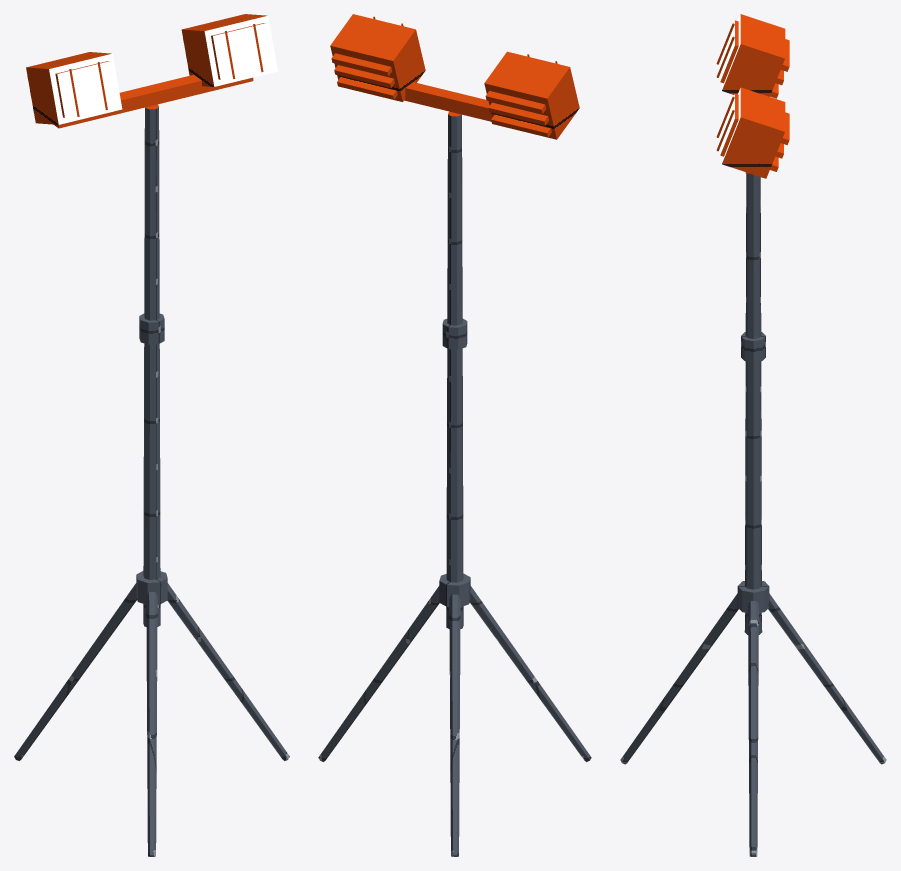
The model's file is floodlight.glb.
3 renders of one model, left to right at view 1: azimuth 30°, elevation 25°; view 2: azimuth 150°, elevation 25°; view 3: azimuth 270°, elevation 25°, orthographic. The views are drawn at different scales.
Parts seen in each view (by area): view 1: floodlight; view 2: floodlight; view 3: floodlight.
Part boxes in pixels (<box>): floodlight: <box>14,14,289,856</box>; floodlight: <box>318,14,591,856</box>; floodlight: <box>620,14,886,856</box>.
Bounding box in the file's own units: 0.6973 × 2.04 × 0.6758.
3 materials, 2 textured.
